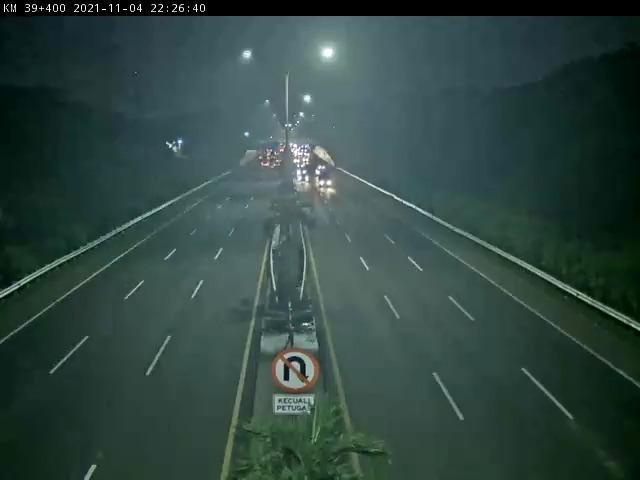car: (315, 163, 336, 179), (319, 173, 336, 191), (297, 174, 314, 184)
